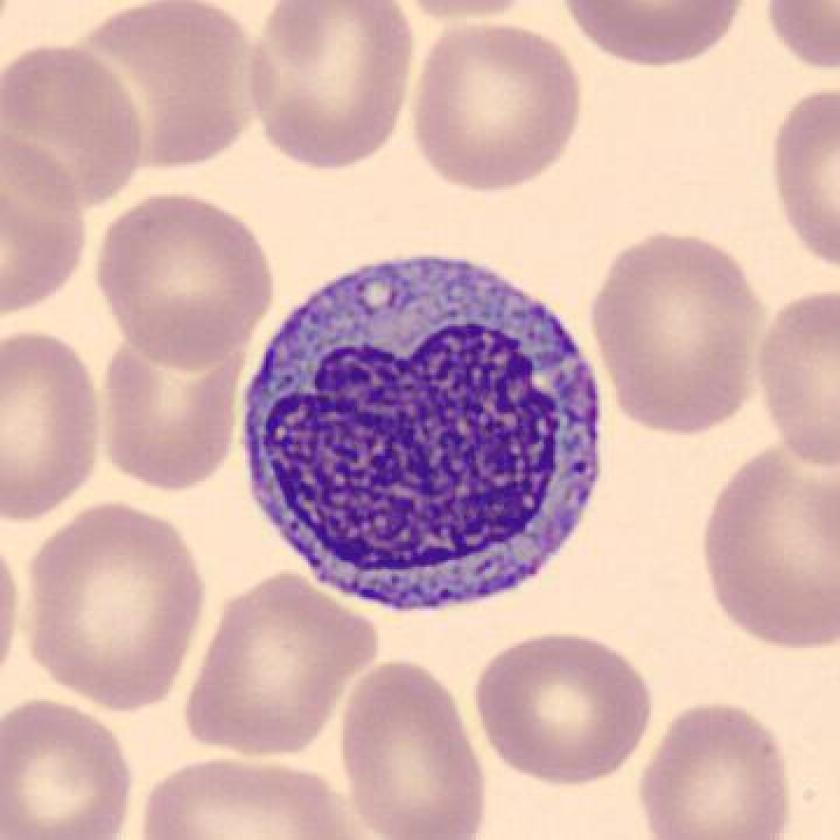monocyte: (220, 239, 622, 628)
